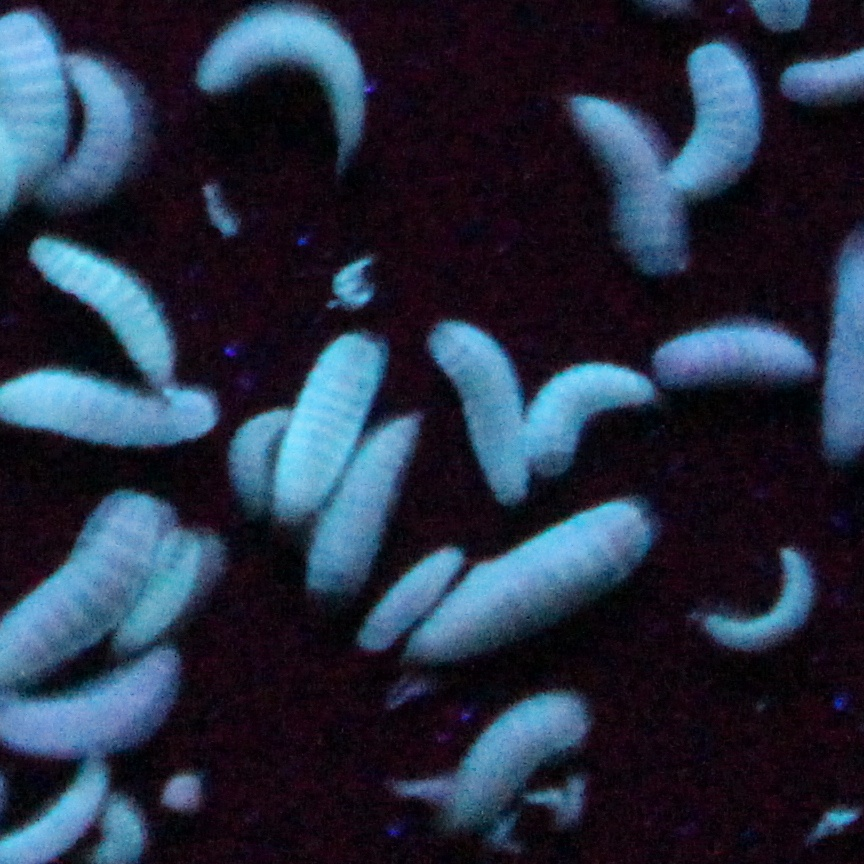larve: (417, 505, 648, 667), (194, 0, 363, 145), (279, 336, 384, 526), (442, 692, 589, 823), (576, 96, 682, 276), (312, 421, 419, 596), (427, 319, 526, 508), (33, 238, 174, 369), (673, 45, 755, 207), (525, 366, 642, 467), (62, 52, 136, 210), (703, 552, 816, 648), (651, 326, 810, 389), (121, 535, 213, 641), (367, 545, 456, 649), (231, 405, 282, 504)
